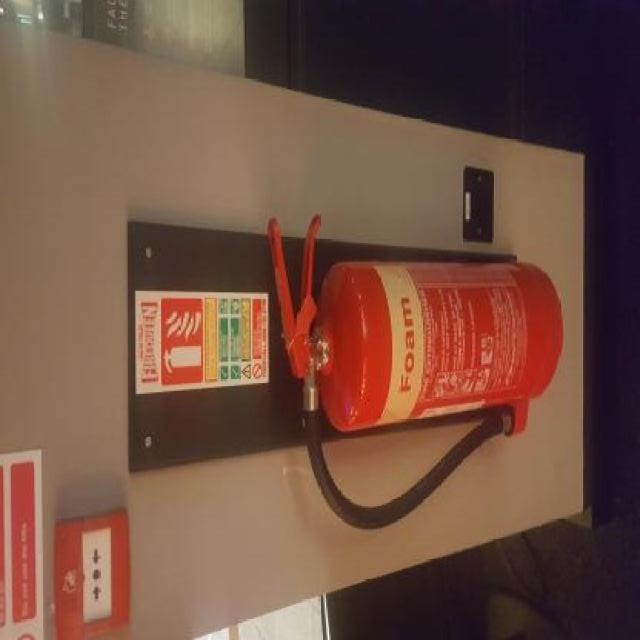fire extinguisher: (261, 201, 565, 535)
